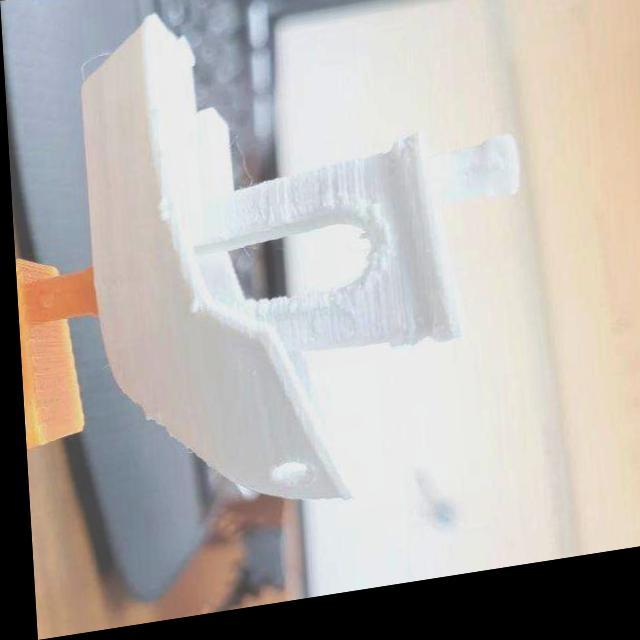zits: (149, 195, 172, 230), (179, 298, 196, 322)
